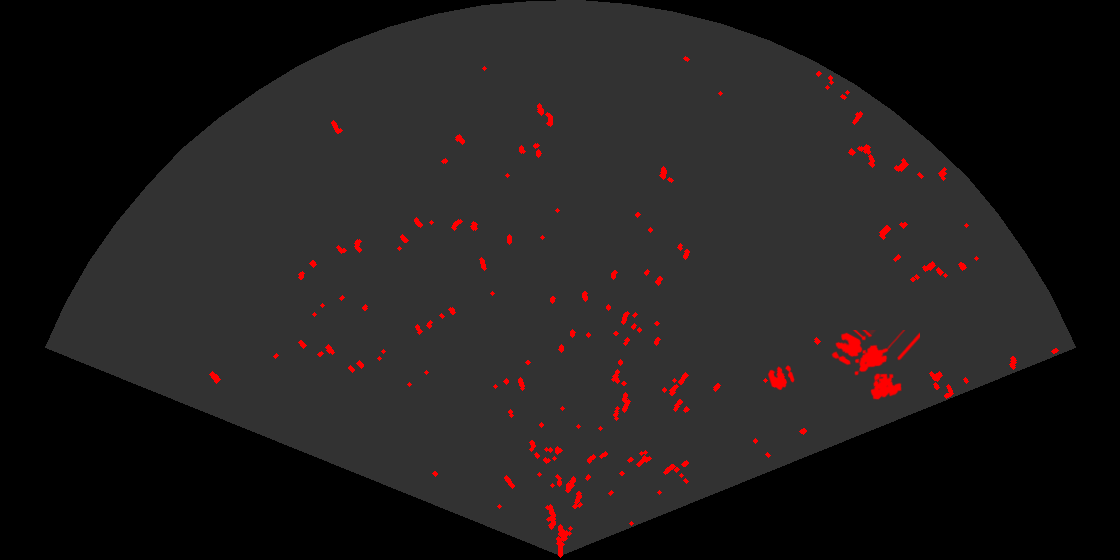ball: (830, 331, 864, 367), (766, 364, 796, 392)
cage: (851, 330, 920, 401)
